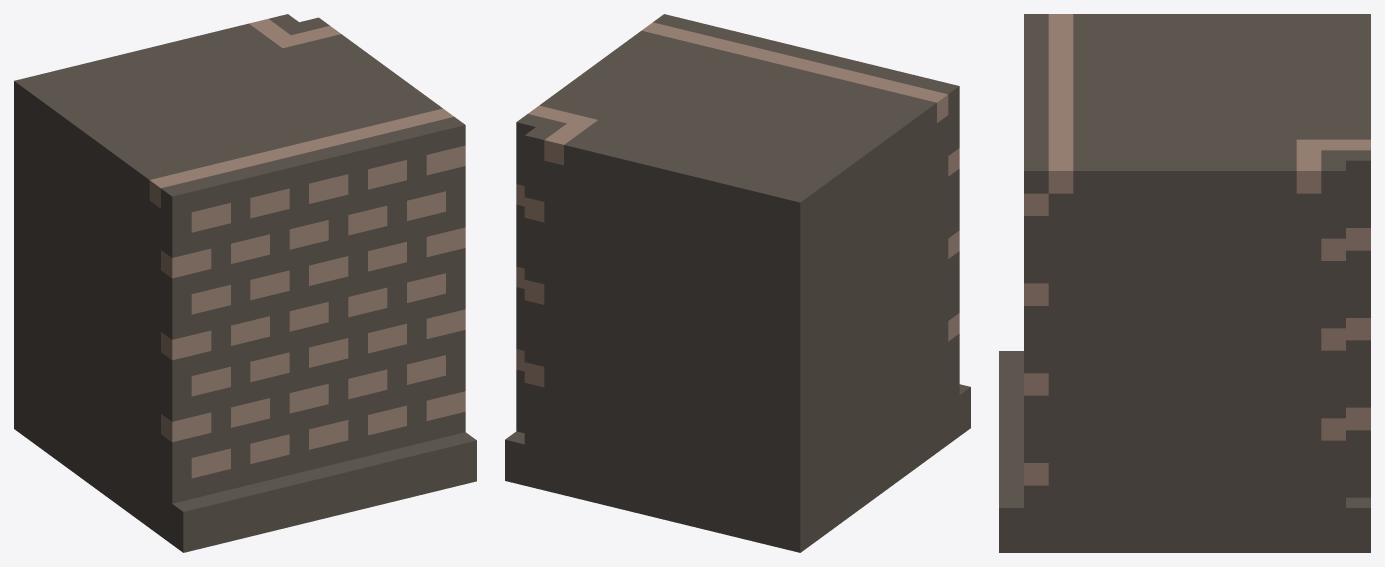
The model's file is dungeon_a_a_outer_wall_segment_d_flipped.obj.
3 views of the same model, side by side, from view 1: azimuth 30°, elevation 25°; view 2: azimuth 150°, elevation 25°; view 3: azimuth 270°, elevation 25° (orthographic). The views are drawn at different scales.
Size of the model in its own units: 1.5 by 1.7 by 1.5.
1 material, 1 textured.
